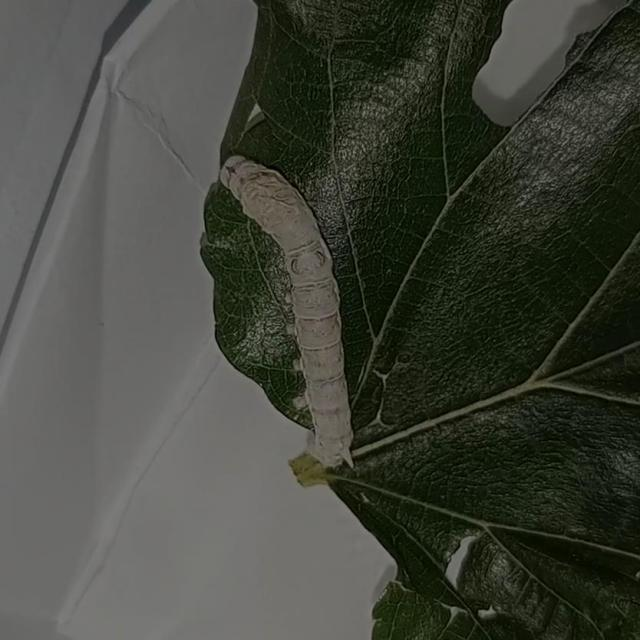Healthy: (208, 153, 374, 480)
